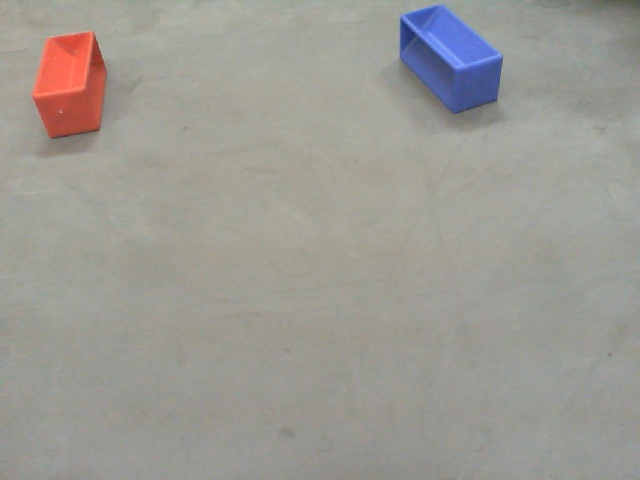BlueSample: (395, 4, 508, 111)
RedSample: (31, 28, 105, 142)
